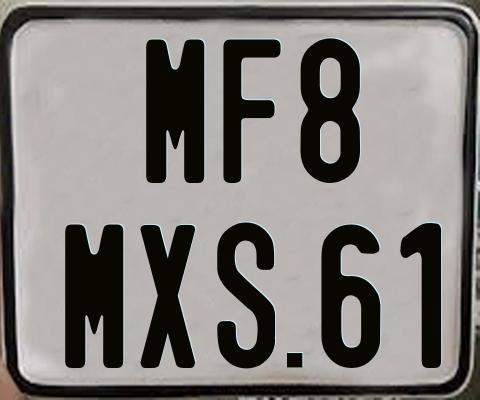1: (399, 222, 440, 371)
6: (318, 222, 382, 372)
8: (299, 37, 364, 183)
F: (222, 38, 285, 182)
M: (62, 221, 126, 369), (145, 36, 203, 184)
S: (214, 221, 272, 374)
X: (140, 222, 200, 367)
